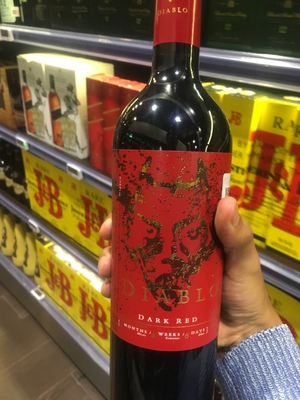diablo dark red: (102, 38, 244, 400)
